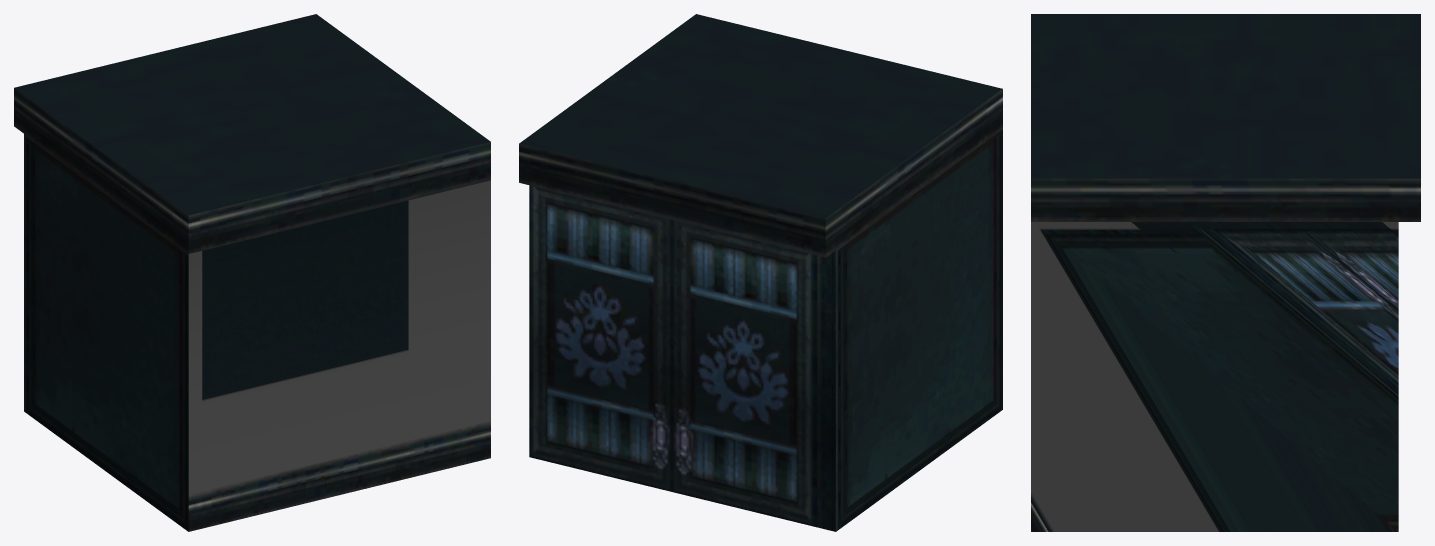
File: furni_0201222_01.FBX
The picture shows the model from 3 angles, left to right: view 1: azimuth 30°, elevation 25°; view 2: azimuth 150°, elevation 25°; view 3: azimuth 270°, elevation 25°; orthographic projection. The views are drawn at different scales.
Parts seen in each view (by area): view 1: furni_0201222_01; view 2: furni_0201222_01; view 3: furni_0201222_01.
Part boxes in pixels (bbox=[...]): furni_0201222_01: bbox=[14, 14, 490, 531]; furni_0201222_01: bbox=[519, 14, 1002, 531]; furni_0201222_01: bbox=[1031, 14, 1420, 531].
Size of the model in its own units: 80 by 80 by 80.
